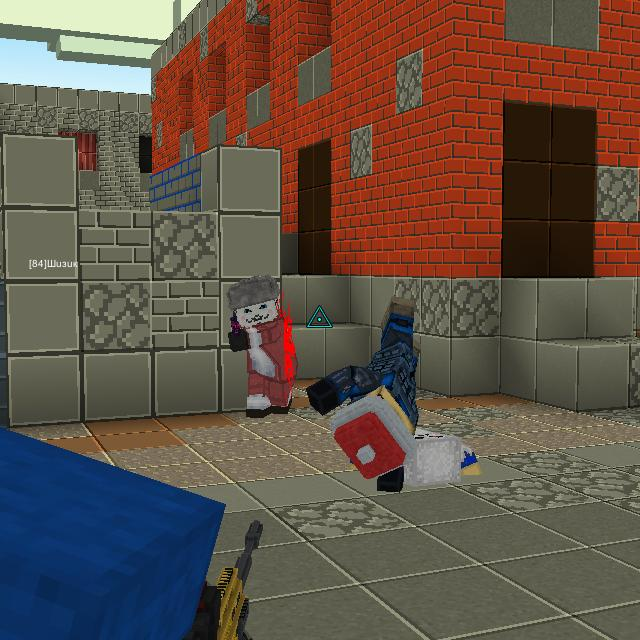enemy: (225, 273, 295, 420)
